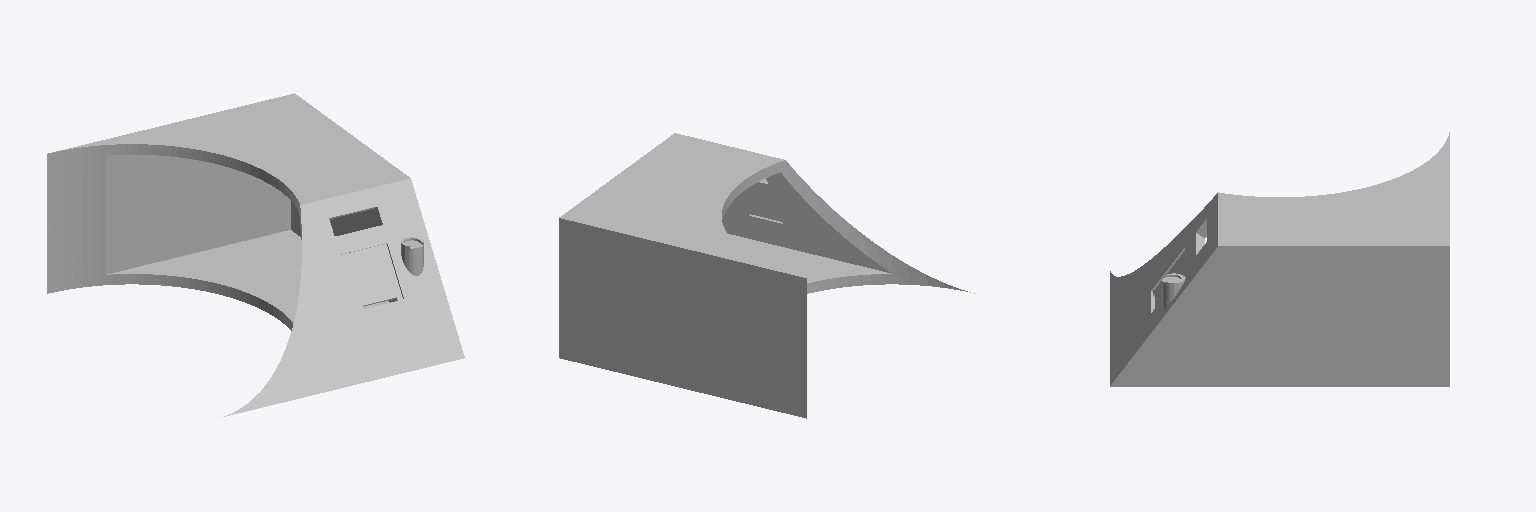
The model's file is newBarbot4.obj.
3 renders of one model, left to right at view 1: azimuth 30°, elevation 25°; view 2: azimuth 150°, elevation 25°; view 3: azimuth 270°, elevation 25°, orthographic.
Size of the model in its own units: 37 by 20 by 44.